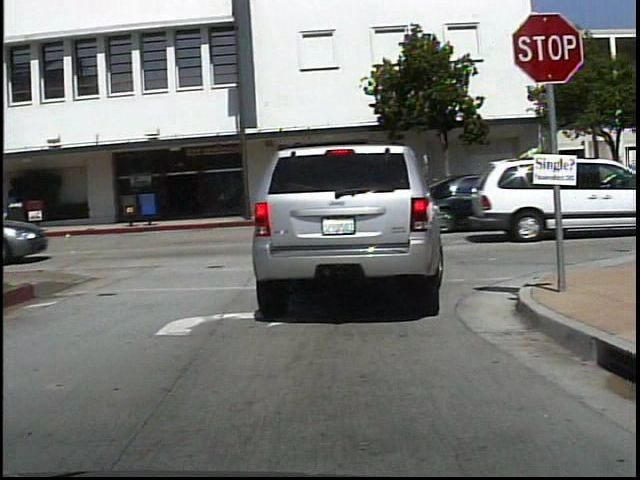person: (9, 183, 28, 229)
